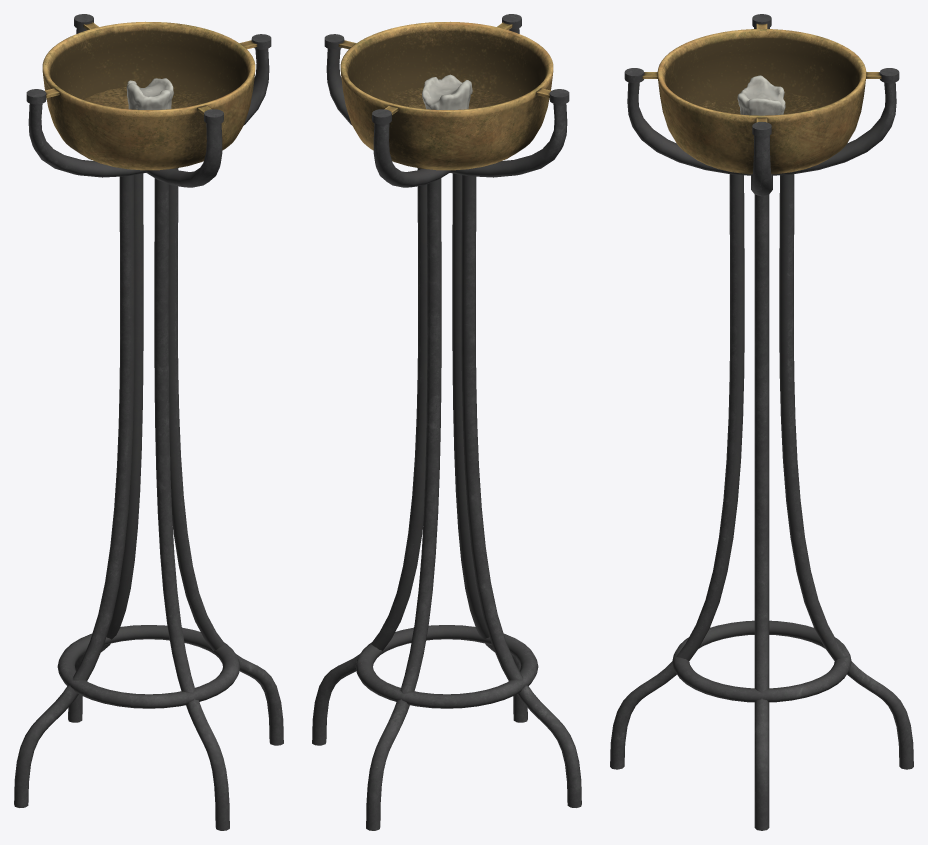
Rendered from StandingBrazier.gltf.
3 views of the same model, side by side, from view 1: azimuth 30°, elevation 25°; view 2: azimuth 150°, elevation 25°; view 3: azimuth 270°, elevation 25° (orthographic).
Parts seen in each view (by area): view 1: StandingBrazier_01, Candle_01; view 2: StandingBrazier_01, Candle_01; view 3: StandingBrazier_01, Candle_01.
Boxes of the visible parts, bbox=[...] form: StandingBrazier_01: bbox=[14, 14, 283, 830]; Candle_01: bbox=[126, 78, 173, 109]; StandingBrazier_01: bbox=[312, 14, 581, 830]; Candle_01: bbox=[422, 74, 472, 109]; StandingBrazier_01: bbox=[610, 14, 913, 830]; Candle_01: bbox=[737, 75, 785, 115].
Bounding box in the file's own units: 0.5406 × 1.36 × 0.5406.
2 materials, 2 textured.
